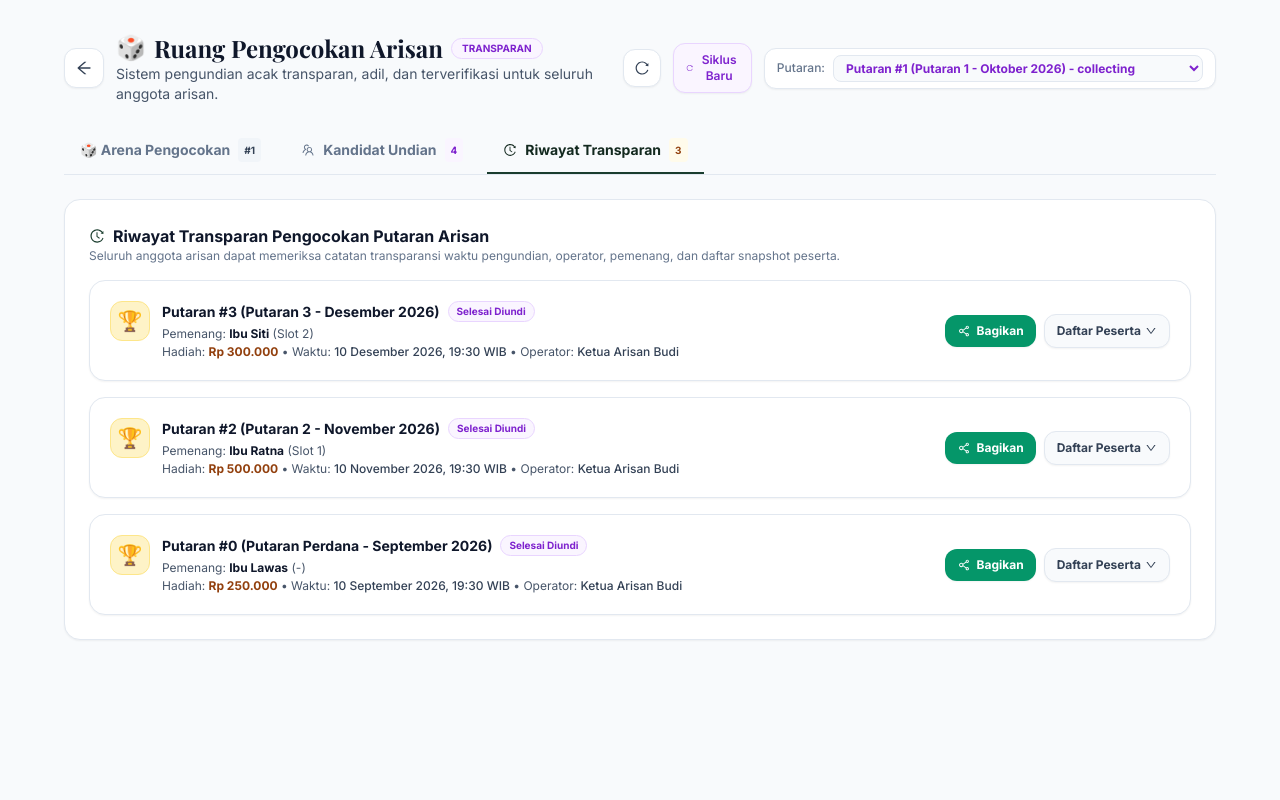
Test: ArisanDraw Component (ARISAN-1.4 & PANITIA-ARISAN-1F F.1) › 5. tab riwayat menampilkan total_pool_amount 300.000 (Rp300.000) dan slot dari snapshot serta fallback putaran lama
Expected: the text "Riwayat Transparan Pengocokan Putaran Arisan" is shown, 113,224 -> 489,248
Expected: the text "Rp 300.000" is shown, 209,344 -> 278,359
Click the button "Daftar Peserta" in the row of "10 November 2026, 19:30 WIB" at (1107, 448), box 1044,430 -> 1170,464
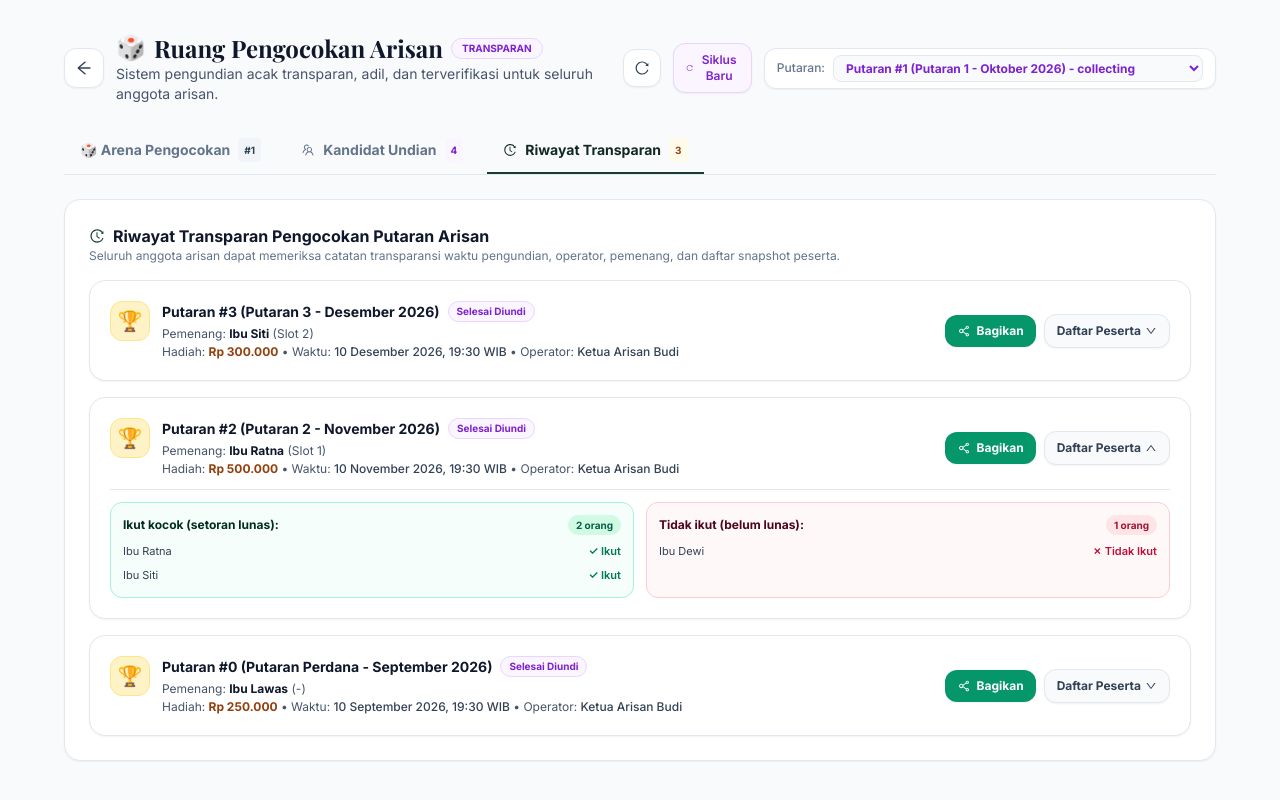
Expected: the text "Ikut kocok (setoran lunas):" is shown, 123,517 -> 279,533
Expected: the text "Tidak ikut (belum lunas):" is shown, 659,517 -> 804,533
Note: Buka accordion putaran perdana tanpa snapshot
Click the button "Daftar Peserta" in the row of "10 September 2026, 19:30 WIB" at (1107, 686), box 1044,668 -> 1170,702
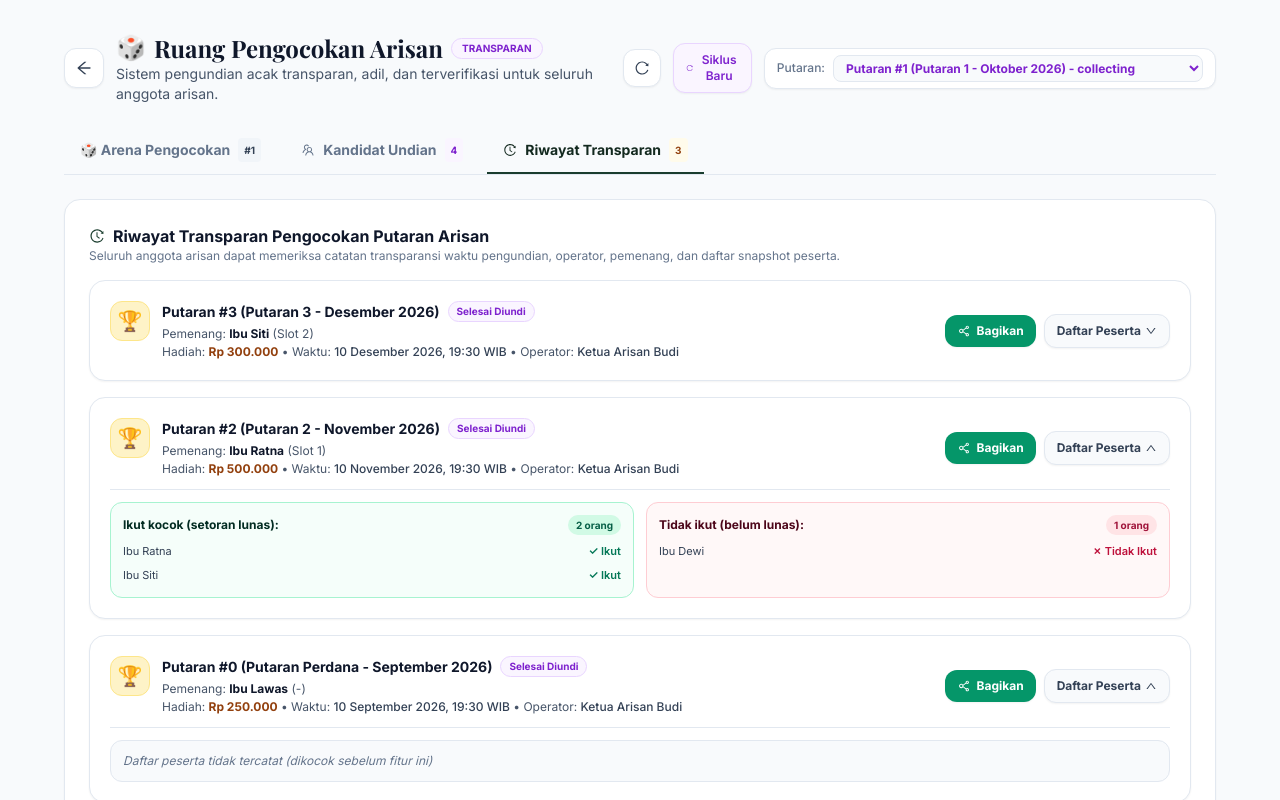
Expected: the text "Daftar peserta tidak tercatat (dikocok sebelum fitur ini)" is shown, 110,740 -> 1170,782
